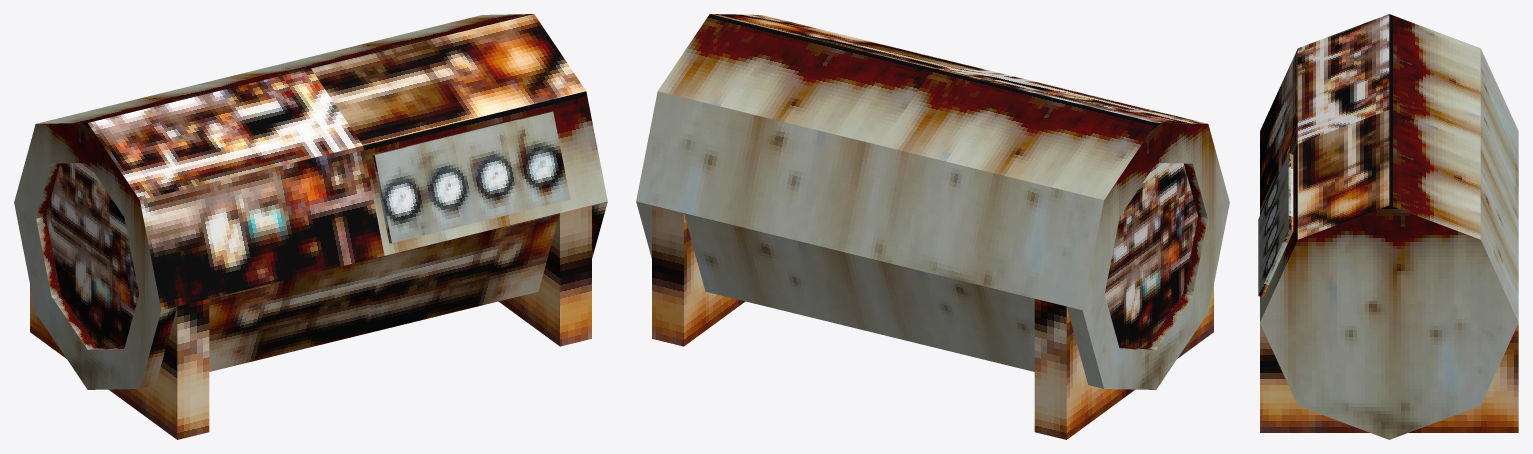
File: processor.glb
The picture shows the model from 3 angles, left to right: view 1: azimuth 30°, elevation 25°; view 2: azimuth 150°, elevation 25°; view 3: azimuth 270°, elevation 25°; orthographic projection. The views are drawn at different scales.
Visible parts, largest first — view 1: obj-processor; view 2: obj-processor; view 3: obj-processor.
Part boxes in pixels (left/top/right/bottom): obj-processor: left=14, top=14, right=607, bottom=439; obj-processor: left=636, top=14, right=1229, bottom=439; obj-processor: left=1258, top=14, right=1518, bottom=439.
Bounding box in the file's own units: 5.25 × 3 × 3.02.
Materials: 1 (1 with a texture image).
